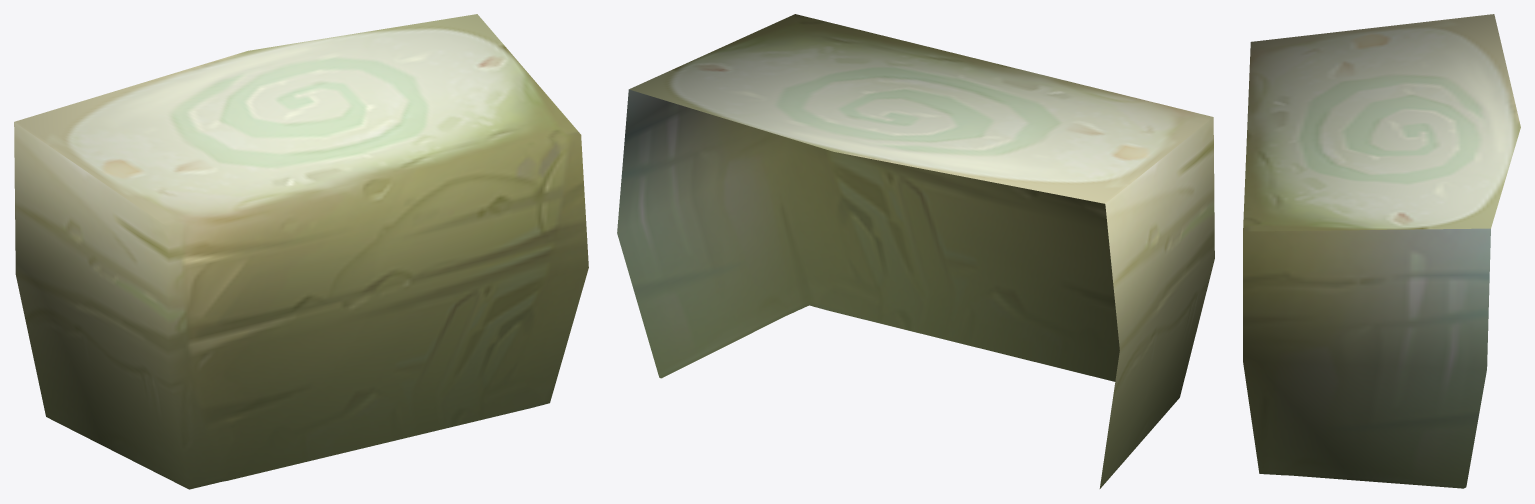
File: Chapter4Scene1Model3Lod.FBX
The picture shows the model from 3 angles, left to right: view 1: azimuth 30°, elevation 25°; view 2: azimuth 150°, elevation 25°; view 3: azimuth 270°, elevation 25°; orthographic projection. The views are drawn at different scales.
Visible parts, largest first — view 1: Chapter4Scene1Model3Lod; view 2: Chapter4Scene1Model3Lod; view 3: Chapter4Scene1Model3Lod.
Part boxes in pixels (x1,y1,x2,y2): Chapter4Scene1Model3Lod: [14, 14, 588, 489]; Chapter4Scene1Model3Lod: [617, 14, 1214, 488]; Chapter4Scene1Model3Lod: [1243, 14, 1520, 488].
Bounding box in the file's own units: 63.23 × 33.72 × 36.48.
